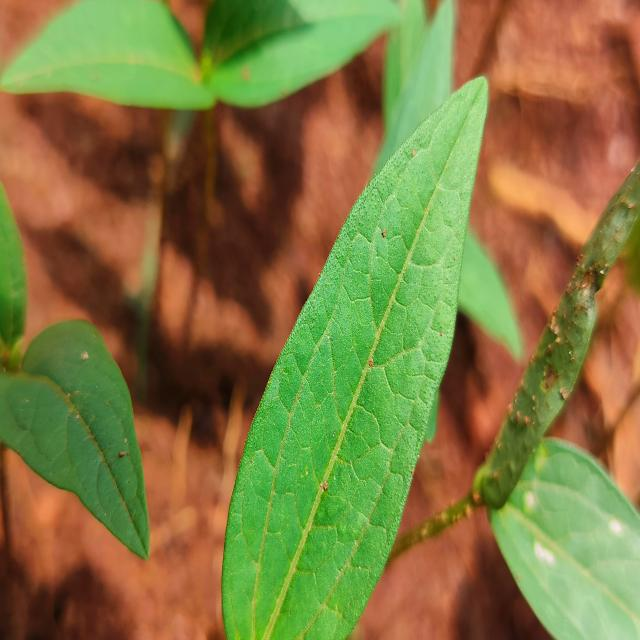Black gram_healthy: (223, 75, 489, 640), (1, 316, 150, 558), (496, 430, 640, 640), (0, 0, 204, 114), (205, 0, 408, 106)
